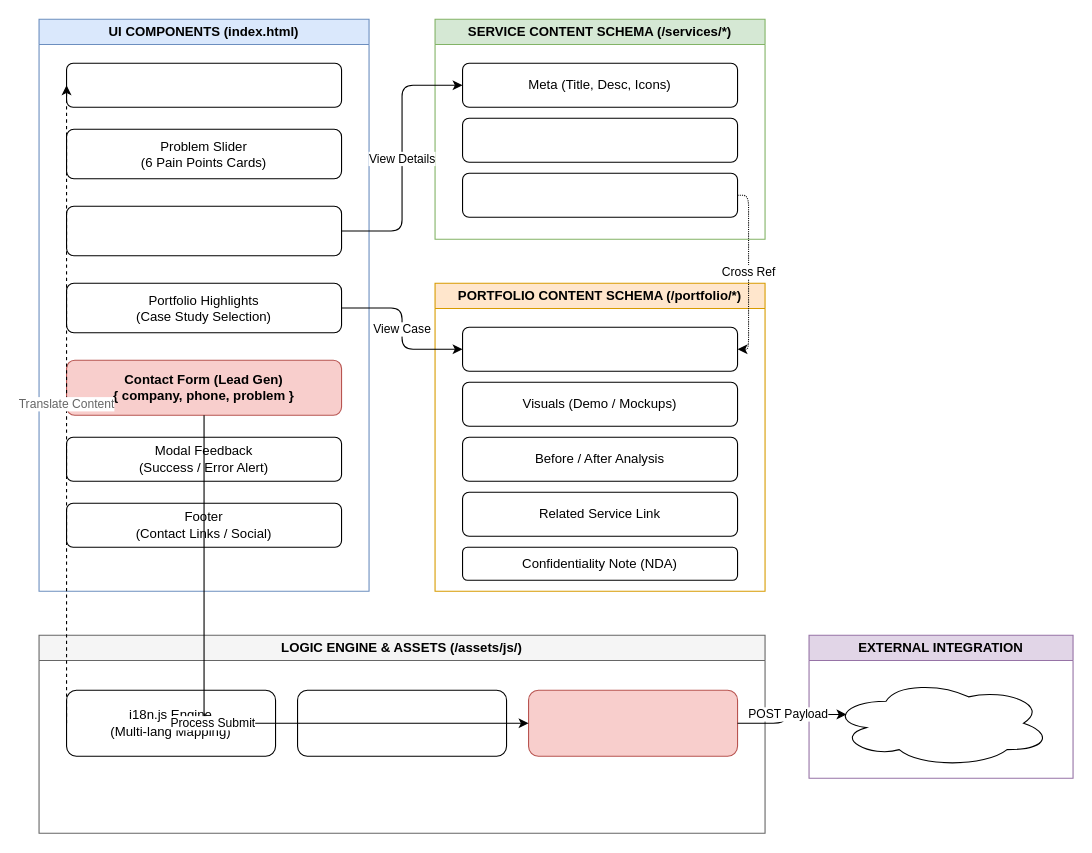
Image size: 1092x853. Some labels were removed from this diagram. Each missing label, with the centre of its shape:
Case Study (STAR Data): (x=599, y=348)
Header Component (Nav / Lang Switch): (x=203, y=84)
main.js (Data Flow) (POST to n8n Webhook): (x=632, y=722)
main.js (UI) (Slider & Modal Ctrl): (x=401, y=722)
n8n Webhook Endpoint: (x=940, y=722)
Related Portfolio Links: (x=599, y=194)
Service Cards Grid (Categorized Solutions): (x=203, y=230)
Tech Stack (Tools Used): (x=599, y=139)
